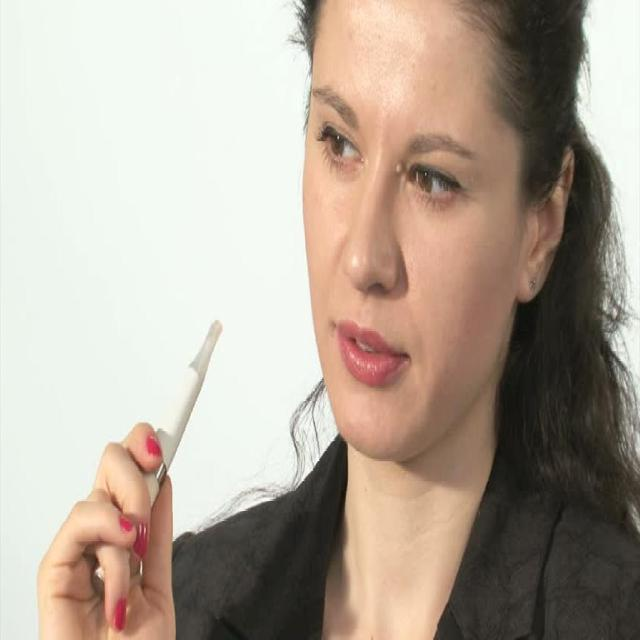smoking: (93, 10, 581, 631)
